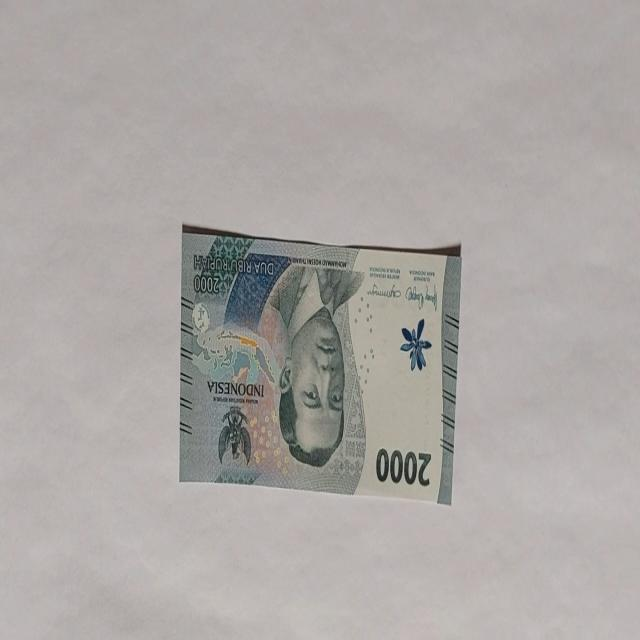dua ribu rupiah: (178, 225, 462, 505), (266, 262, 364, 471)
